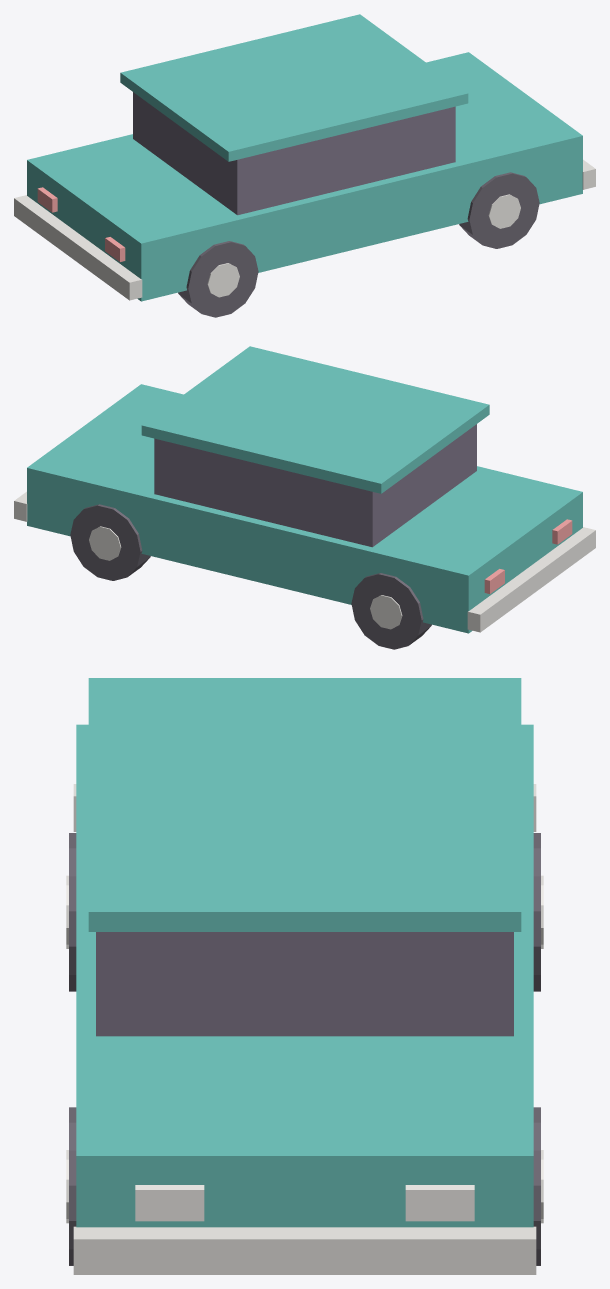
Rendered from car_sedan.glb.
The picture shows the model from 3 angles, top to bottom: view 1: azimuth 30°, elevation 25°; view 2: azimuth 150°, elevation 25°; view 3: azimuth 270°, elevation 25°; orthographic projection. The views are drawn at different scales.
Parts seen in each view (by area): view 1: c0, c2, c1, c11, c5, c9, c6, c10; view 2: c0, c2, c1, c11, c3, c7, c4, c8; view 3: c2, c0, c1, c12, c13, c15, c3, c5, c7, c9.
Part boxes in pixels (left/top/right/bottom): c0: left=27, top=52, right=582, bottom=301; c2: left=120, top=14, right=468, bottom=161; c1: left=133, top=92, right=455, bottom=215; c11: left=14, top=195, right=142, bottom=300; c5: left=178, top=241, right=258, bottom=317; c9: left=459, top=172, right=539, bottom=248; c6: left=207, top=263, right=239, bottom=297; c10: left=488, top=194, right=520, bottom=228; c0: left=27, top=384, right=582, bottom=633; c2: left=141, top=346, right=489, bottom=493; c1: left=154, top=424, right=476, bottom=547; c11: left=467, top=527, right=595, bottom=632; c3: left=351, top=573, right=431, bottom=649; c7: left=70, top=504, right=150, bottom=580; c4: left=370, top=595, right=402, bottom=629; c8: left=89, top=526, right=121, bottom=560; c2: left=88, top=678, right=521, bottom=931; c0: left=76, top=724, right=533, bottom=1227; c1: left=96, top=932, right=513, bottom=1036; c12: left=73, top=1226, right=536, bottom=1274; c13: left=405, top=1185, right=474, bottom=1221; c15: left=135, top=1185, right=204, bottom=1221; c3: left=533, top=833, right=540, bottom=991; c5: left=69, top=833, right=76, bottom=991; c7: left=533, top=1107, right=540, bottom=1265; c9: left=69, top=1107, right=76, bottom=1265.
Bounding box in the file's own units: 4.38 × 1.42 × 1.94.
